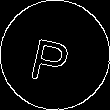P_N: (32, 26, 78, 84)
